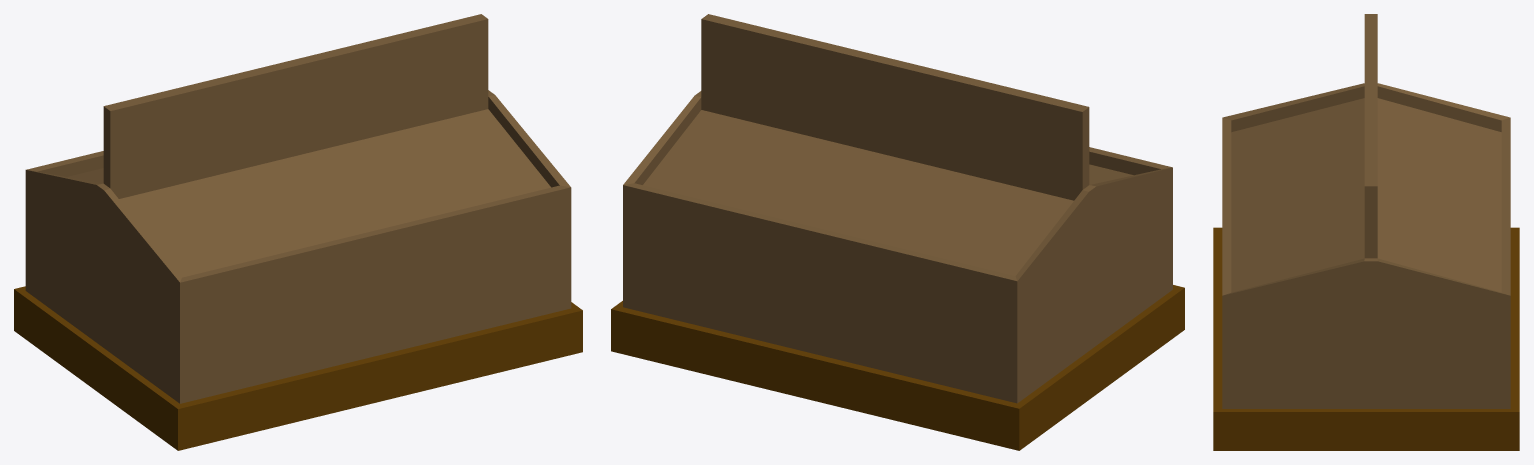
The model's file is Ma_Shelves_4.fbx.
The picture shows the model from 3 angles, left to right: view 1: azimuth 30°, elevation 25°; view 2: azimuth 150°, elevation 25°; view 3: azimuth 270°, elevation 25°; orthographic projection. The views are drawn at different scales.
Visible parts, largest first — view 1: Ma_Shelves_4; view 2: Ma_Shelves_4; view 3: Ma_Shelves_4.
Part boxes in pixels (<box>): Ma_Shelves_4: <box>14,14,582,450</box>; Ma_Shelves_4: <box>611,14,1184,450</box>; Ma_Shelves_4: <box>1213,14,1519,450</box>.
Size of the model in its own units: 1879 by 1319 by 1229.
